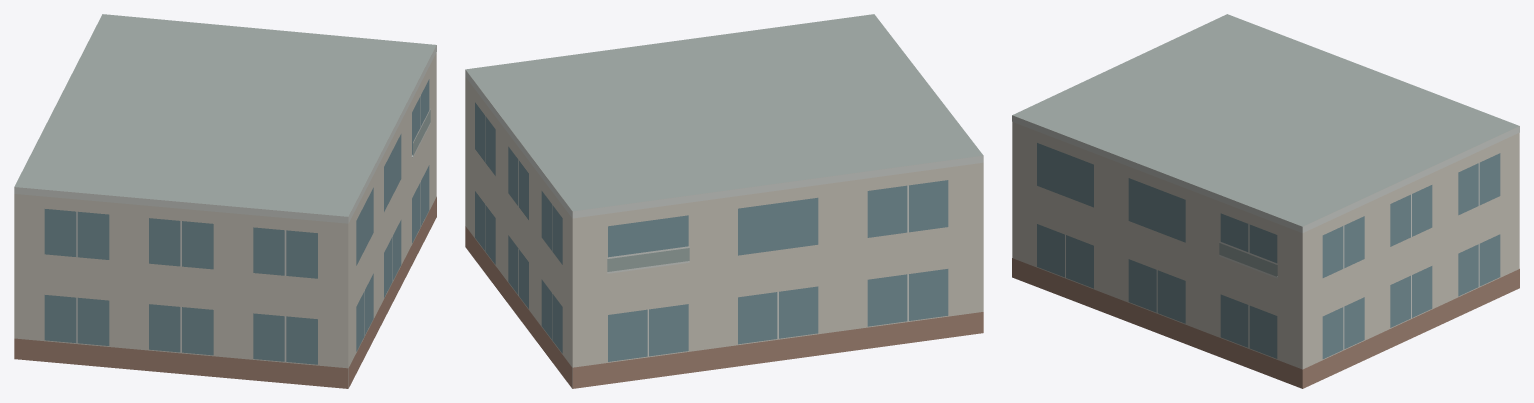
Rendered from survey-upis-32949426.glb.
3 renders of one model, left to right at view 1: azimuth 30°, elevation 25°; view 2: azimuth 150°, elevation 25°; view 3: azimuth 270°, elevation 25°, orthographic. The views are drawn at different scales.
Parts seen in each view (by area): view 1: survey-upis-32949426.tmp; view 2: survey-upis-32949426.tmp; view 3: survey-upis-32949426.tmp.
Boxes of the visible parts, <box> form: survey-upis-32949426.tmp: <box>14,14,436,388</box>; survey-upis-32949426.tmp: <box>465,14,983,388</box>; survey-upis-32949426.tmp: <box>1012,14,1519,388</box>.
Bounding box in the file's own units: 17.17 × 6.1 × 17.32.
